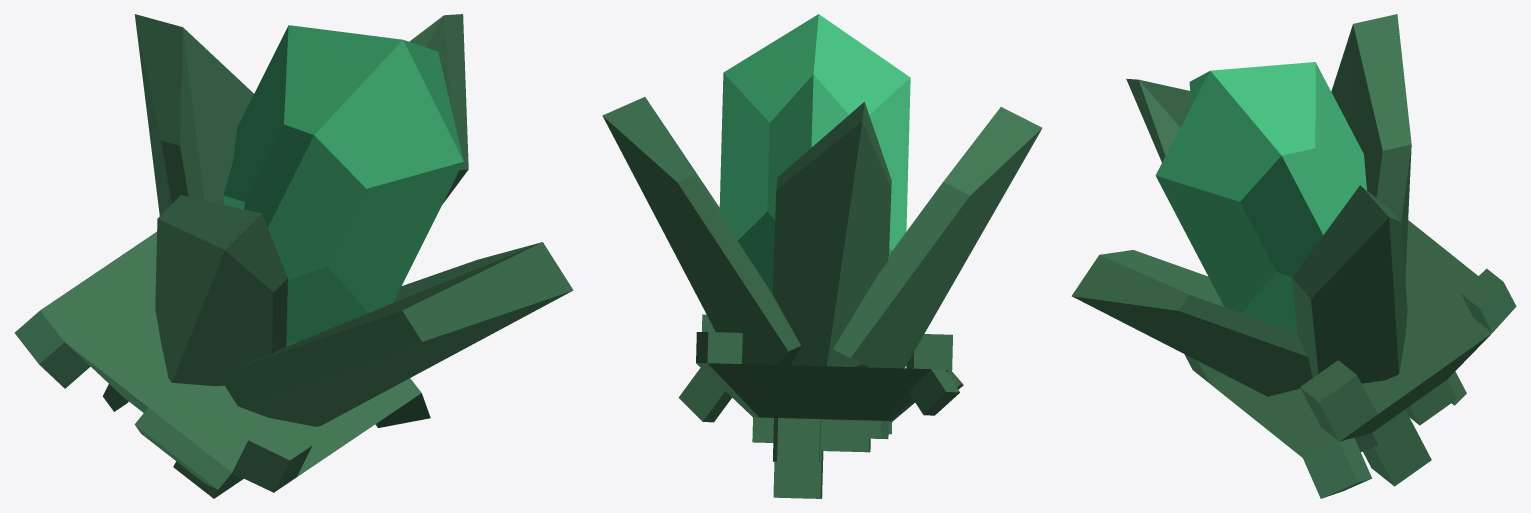
File: RockResource.fbx
3 views of the same model, side by side, from view 1: azimuth 30°, elevation 25°; view 2: azimuth 150°, elevation 25°; view 3: azimuth 270°, elevation 25° (orthographic). The views are drawn at different scales.
Parts seen in each view (by area): view 1: Cube.019; view 2: Cube.019; view 3: Cube.019.
Boxes of the visible parts, x1,y1,x2,y2 form: Cube.019: (14, 14, 573, 498); Cube.019: (602, 14, 1042, 498); Cube.019: (1071, 14, 1516, 498).
Bounding box in the file's own units: 199 × 220 × 202.
